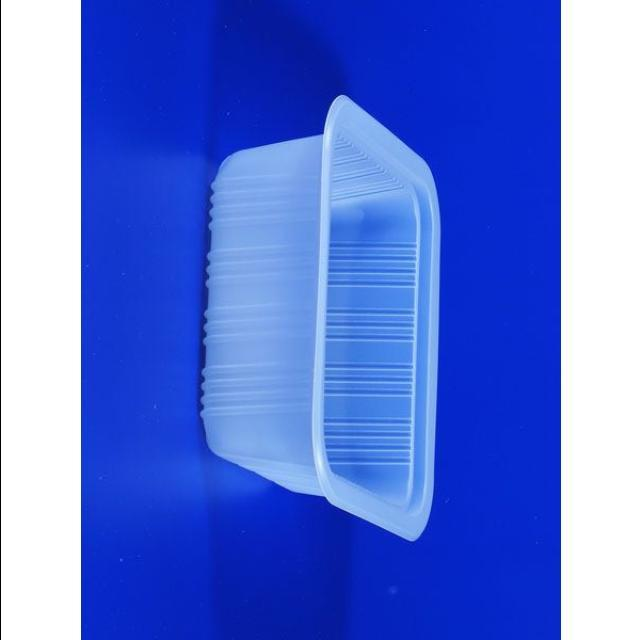PET Bottle: (194, 64, 463, 554)
